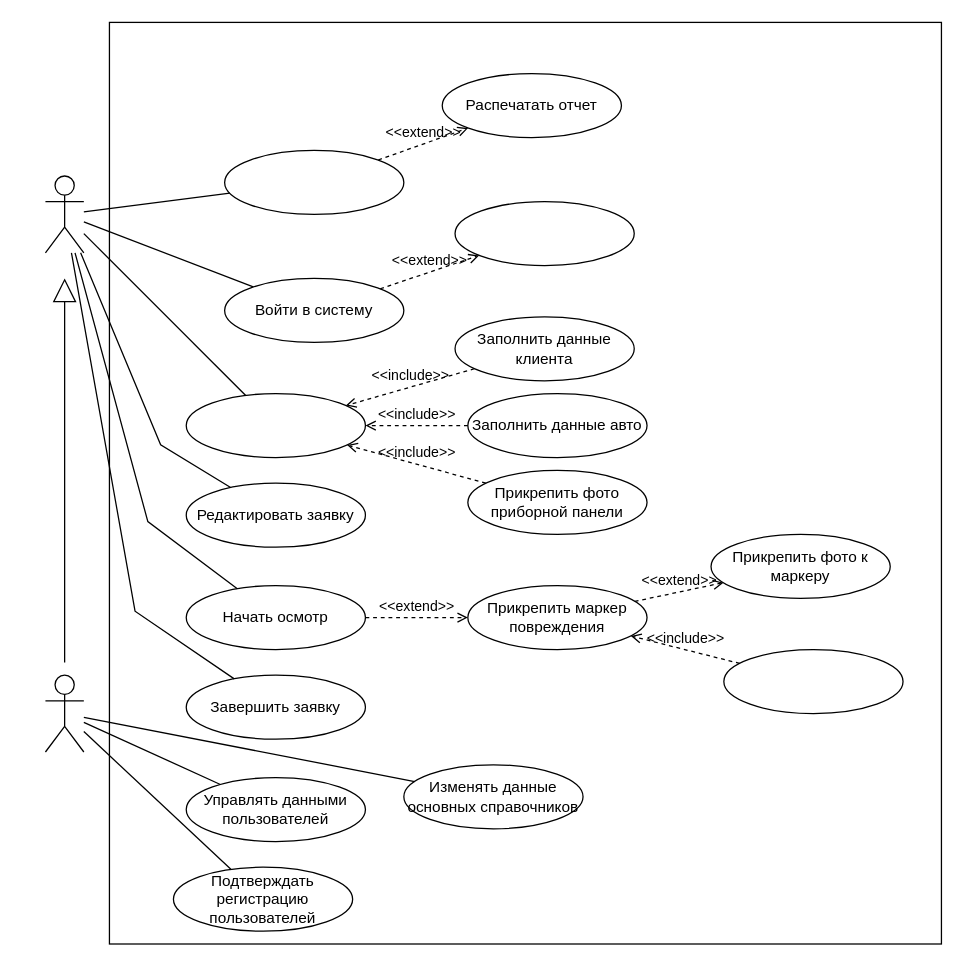
This 964x966 diagram has some shape labels left out. The shapes that lost their labels are listed below. From the top down, each one's centre as x and y in pixels, then its label:
the point at 313,181: Сформировать отчет
the point at 64,214: Reseptionist
the point at 544,233: Зарегистрироваться
the point at 275,425: Создать заявку
the point at 813,681: Заполнить тип повреждения
the point at 64,713: Admin
